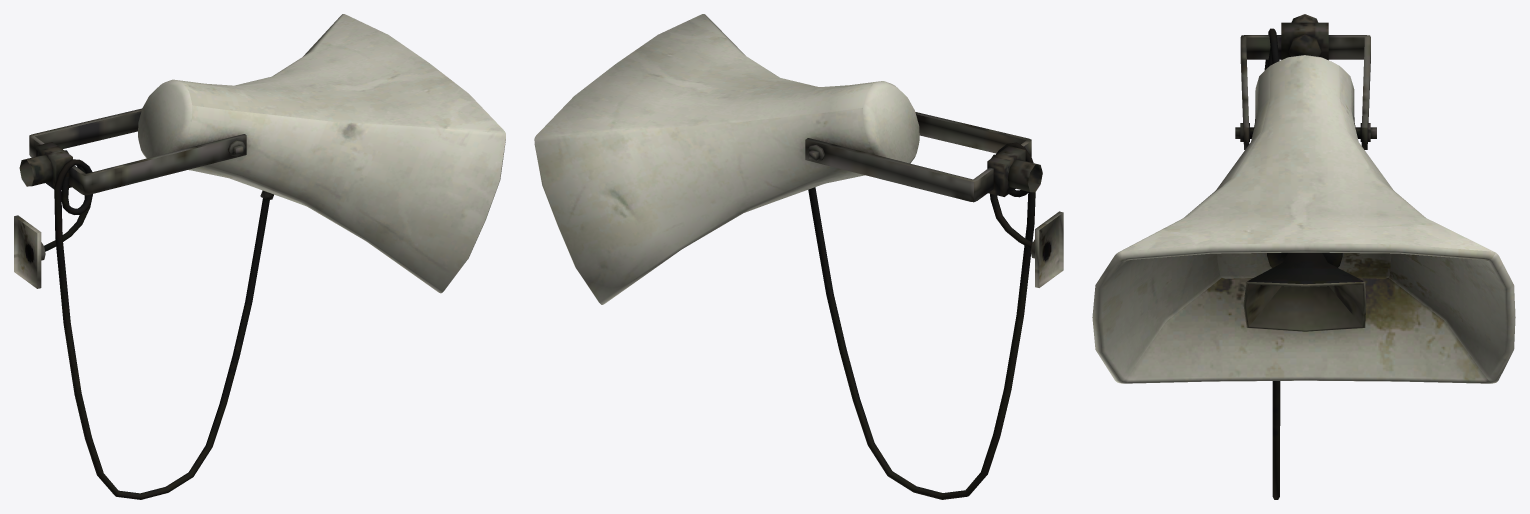
File: magaphones.obj
The picture shows the model from 3 angles, left to right: view 1: azimuth 30°, elevation 25°; view 2: azimuth 150°, elevation 25°; view 3: azimuth 270°, elevation 25°; orthographic projection. The views are drawn at different scales.
Visible parts, largest first — view 1: Meshesspeaker1; view 2: Meshesspeaker1; view 3: Meshesspeaker1.
Part boxes in pixels (bbox=[...]): Meshesspeaker1: bbox=[14, 14, 505, 499]; Meshesspeaker1: bbox=[534, 14, 1063, 499]; Meshesspeaker1: bbox=[1092, 14, 1515, 499].
Bounding box in the file's own units: 3.08 × 2.81 × 2.36.
Materials: 1 (1 with a texture image).
